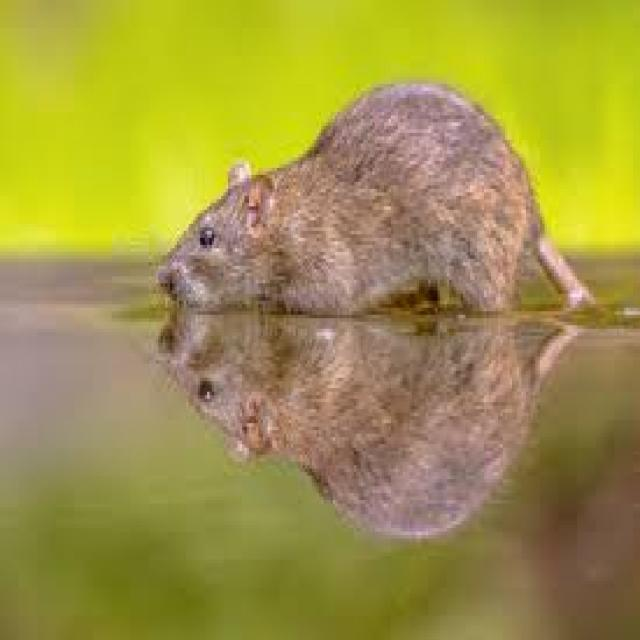Rat: (131, 33, 640, 394)
